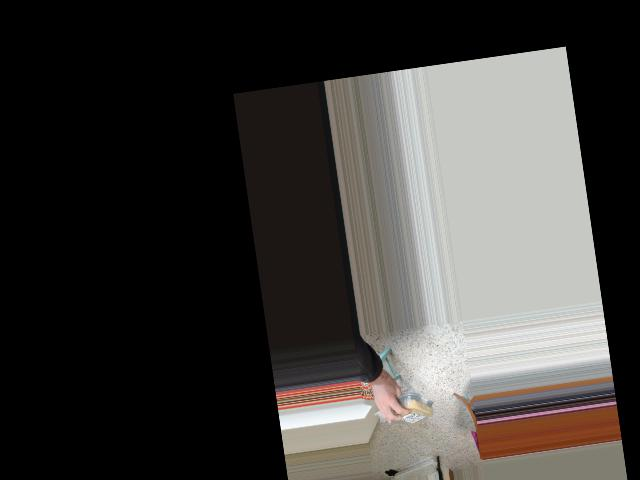cheese: (380, 394, 435, 427)
